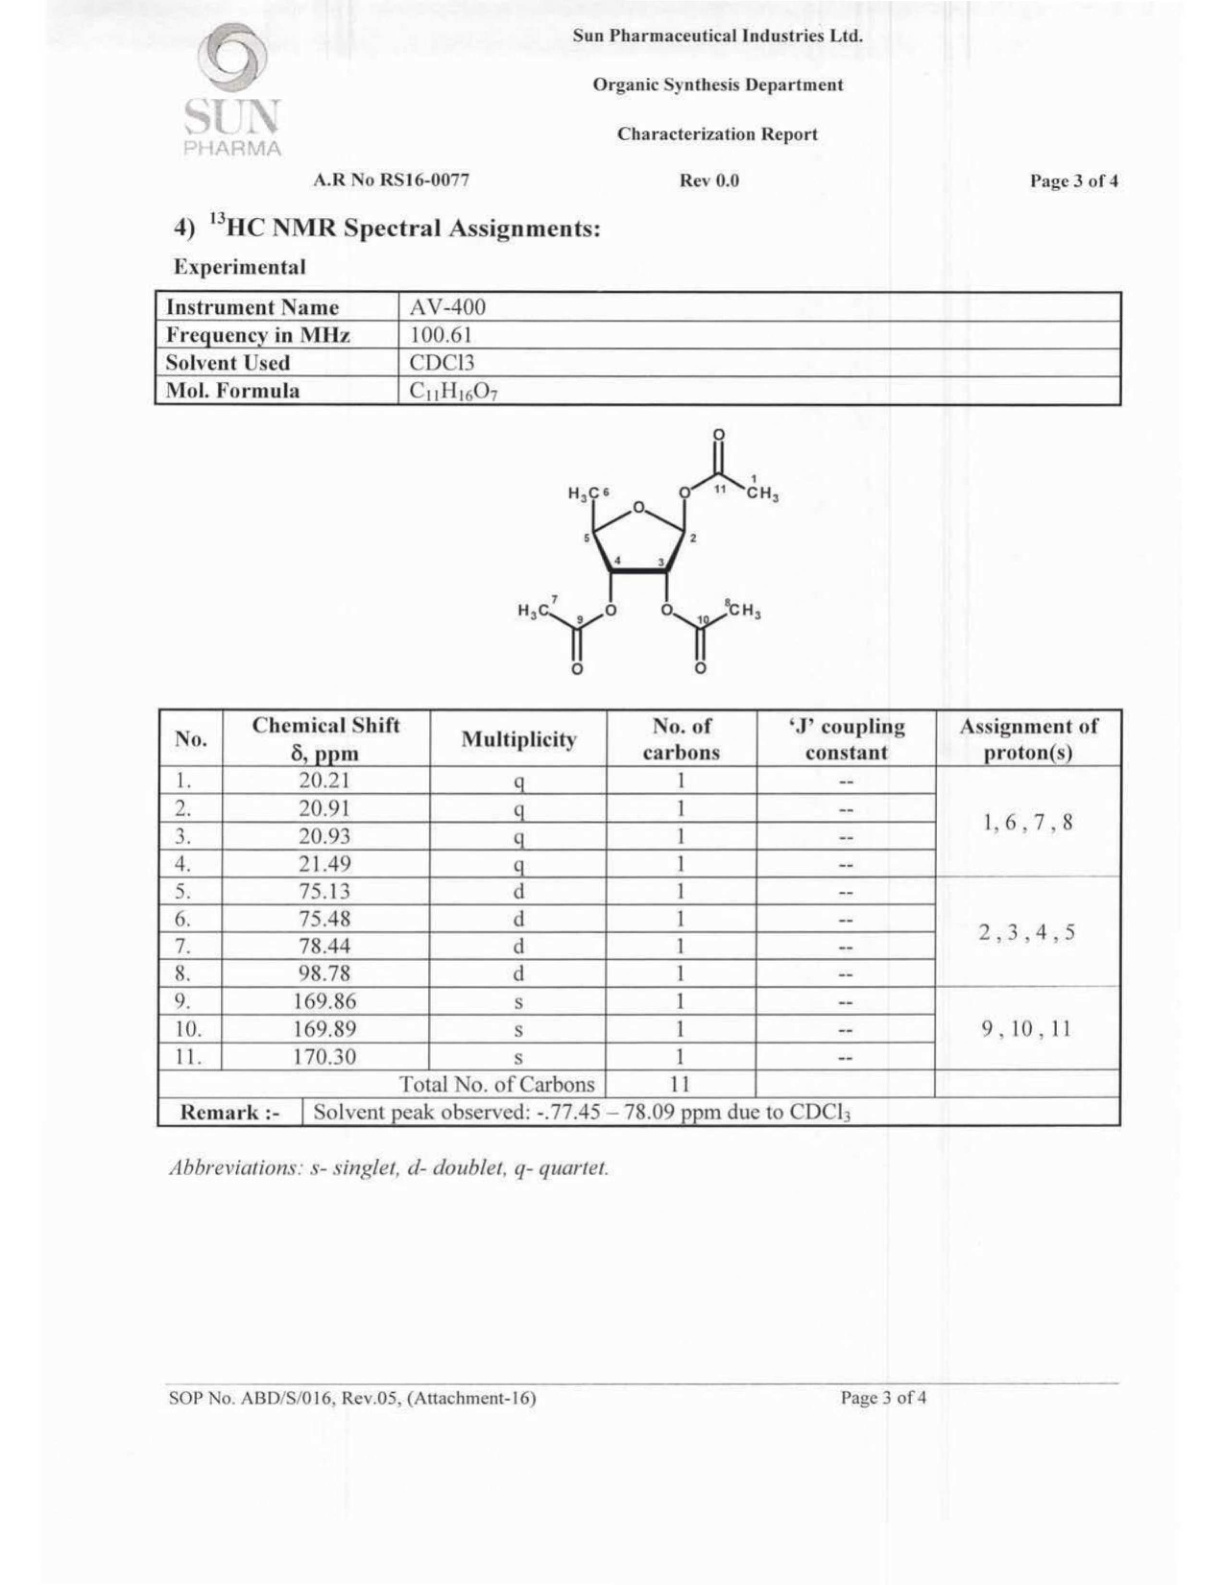full_lined: (153, 289, 1122, 406)
merged_cells: (156, 706, 1122, 1127)
